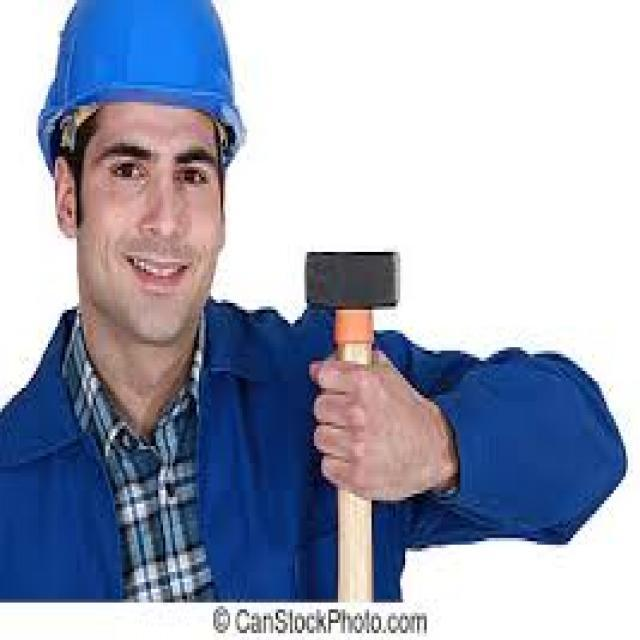hammer: (300, 235, 410, 602)
